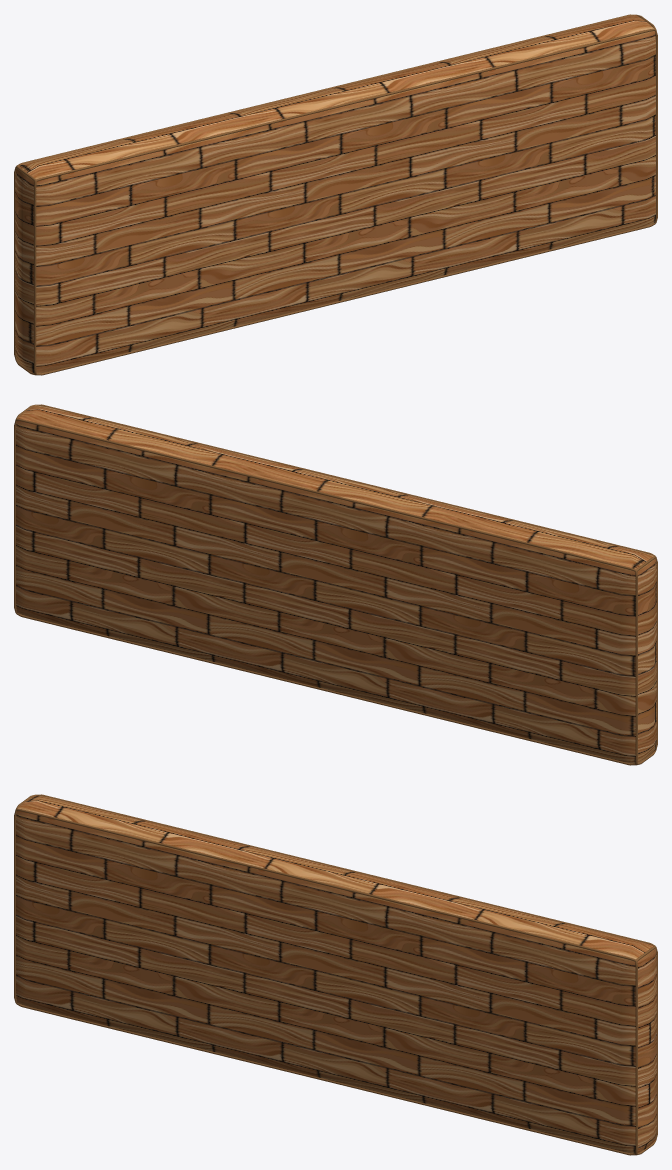
The model's file is SM_SoftFoam_Wall_20_1x3M.fbx.
3 renders of one model, top to bottom at view 1: azimuth 30°, elevation 25°; view 2: azimuth 150°, elevation 25°; view 3: azimuth 330°, elevation 25°, orthographic.
Parts seen in each view (by area): view 1: SM_SoftFoam_Wall_20_1x3; view 2: SM_SoftFoam_Wall_20_1x3; view 3: SM_SoftFoam_Wall_20_1x3.
Boxes of the visible parts, <box> form: SM_SoftFoam_Wall_20_1x3: <box>14,14,657,375</box>; SM_SoftFoam_Wall_20_1x3: <box>14,404,657,765</box>; SM_SoftFoam_Wall_20_1x3: <box>14,794,657,1155</box>.
Bounding box in the file's own units: 290 × 90 × 20.
